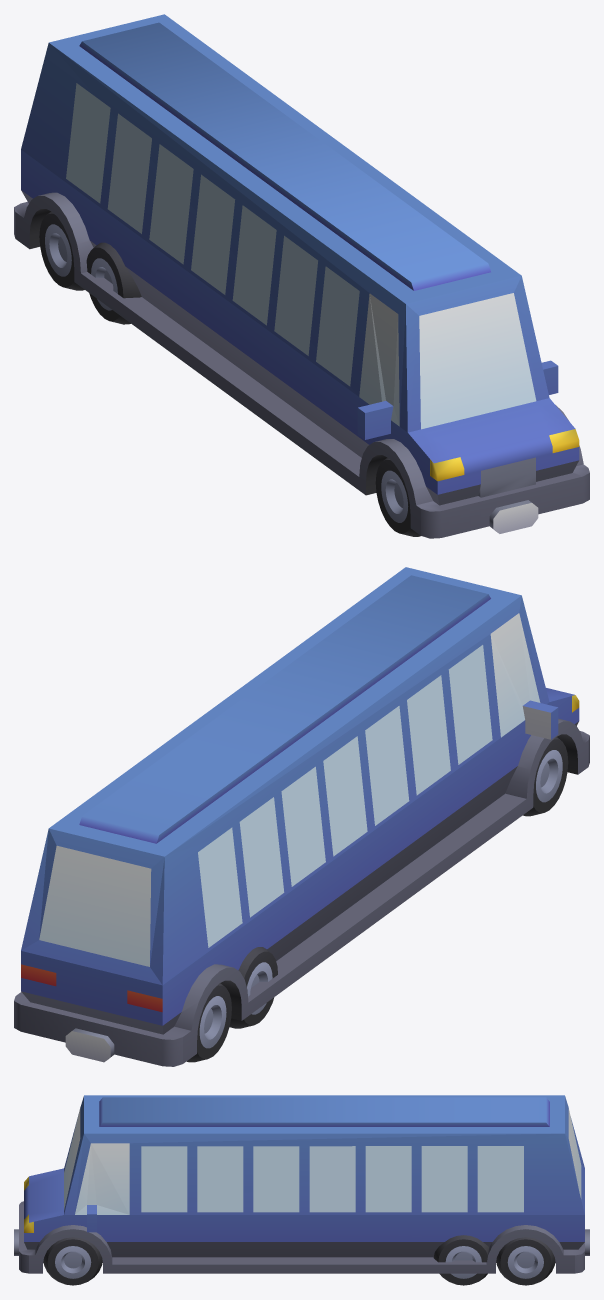
Rendered from bus.glb.
3 renders of one model, top to bottom at view 1: azimuth 30°, elevation 25°; view 2: azimuth 150°, elevation 25°; view 3: azimuth 270°, elevation 25°, orthographic. The views are drawn at different scales.
Parts seen in each view (by area): view 1: body, wheel-mid-right, wheel-back-right, wheel-front-right; view 2: body, wheel-back-right, wheel-front-right, wheel-mid-right; view 3: body, wheel-back-left, wheel-front-left, wheel-mid-left.
Boxes of the visible parts, x1,y1,x2,y2 form: body: (14,14,589,538); wheel-mid-right: (86,242,141,324); wheel-back-right: (39,211,84,290); wheel-front-right: (375,457,420,536); body: (14,567,589,1066); wheel-back-right: (186,983,231,1062); wheel-front-right: (523,737,568,816); wheel-mid-right: (229,947,277,1028); body: (14,1095,589,1273); wheel-back-left: (496,1237,555,1285); wheel-front-left: (43,1237,102,1285); wheel-mid-left: (433,1235,489,1285).
Bounding box in the file's own units: 1.5 × 1.7 × 5.75.
1 material, 1 textured.
